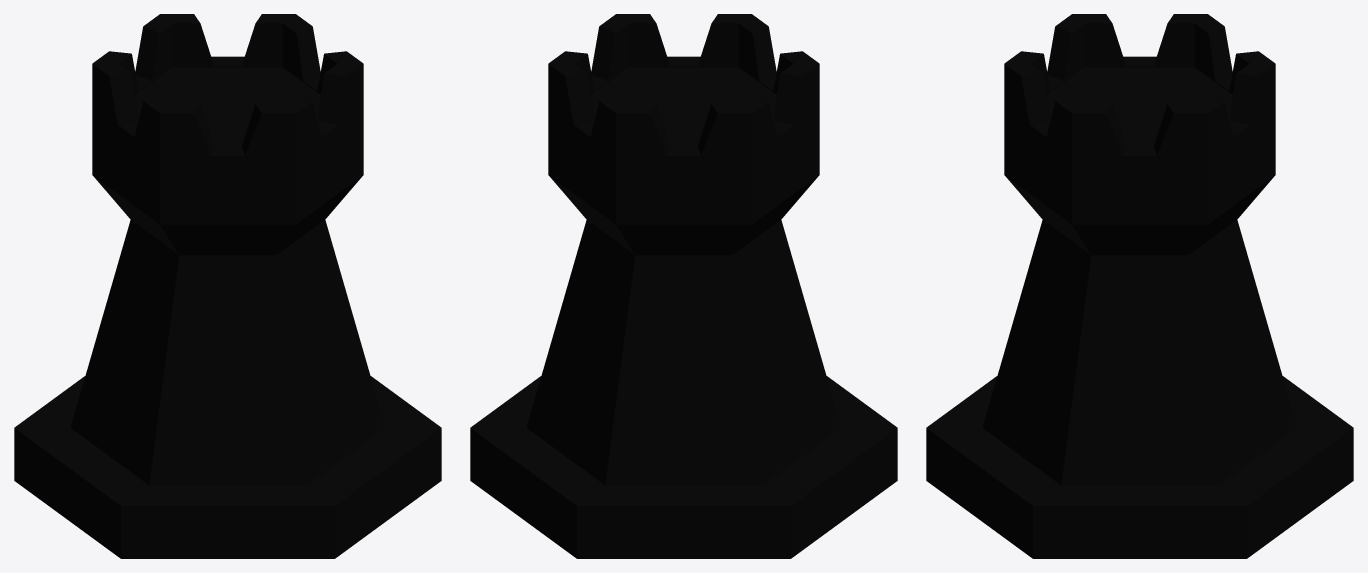
The model's file is chesspiecerook02.gltf.
3 renders of one model, left to right at view 1: azimuth 30°, elevation 25°; view 2: azimuth 150°, elevation 25°; view 3: azimuth 270°, elevation 25°, orthographic.
Visible parts, largest first — view 1: Cylinder.005; view 2: Cylinder.005; view 3: Cylinder.005.
Boxes of the visible parts, box(x1,y1,x2,y2) form: Cylinder.005: box(14, 14, 441, 558); Cylinder.005: box(470, 14, 897, 558); Cylinder.005: box(926, 14, 1353, 558).
Size of the model in its own units: 0.0225 by 0.028 by 0.026.
Materials: 1 (1 with a texture image).
